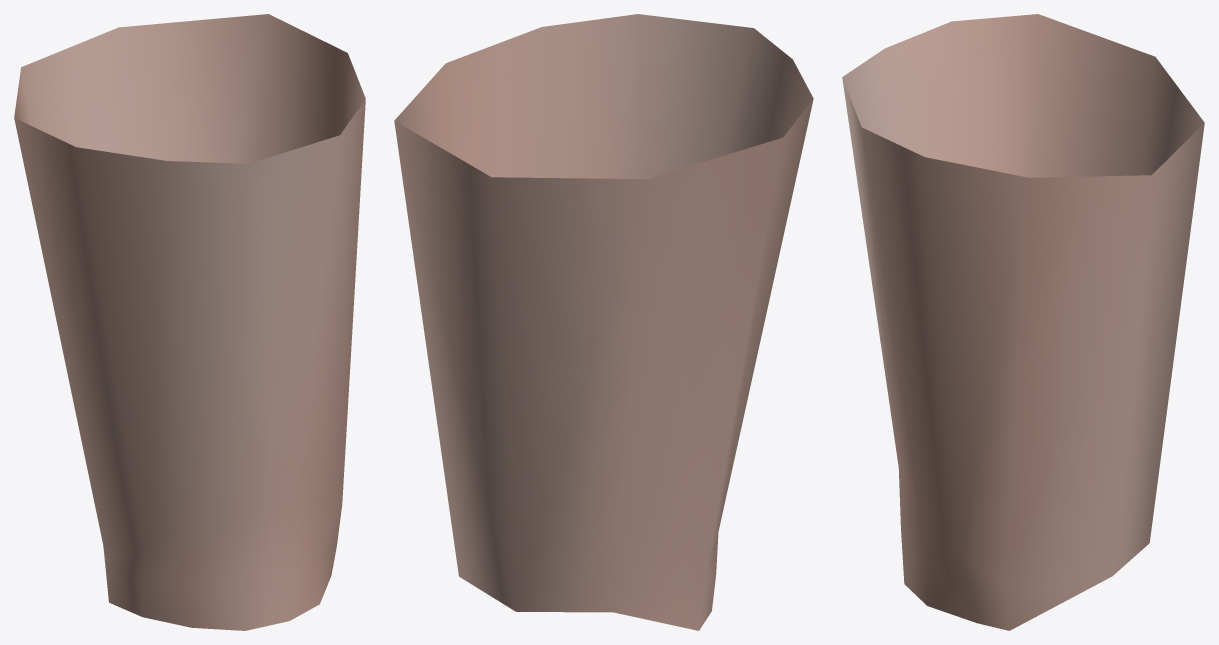
The model's file is KOSHIRO_Pierna_2.obj.
The picture shows the model from 3 angles, left to right: view 1: azimuth 30°, elevation 25°; view 2: azimuth 150°, elevation 25°; view 3: azimuth 270°, elevation 25°; orthographic projection. The views are drawn at different scales.
Parts seen in each view (by area): view 1: Pierna_2_face_Plane.005; view 2: Pierna_2_face_Plane.005; view 3: Pierna_2_face_Plane.005.
Boxes of the visible parts, left/top/right/bottom form: Pierna_2_face_Plane.005: left=14, top=14, right=365, bottom=630; Pierna_2_face_Plane.005: left=394, top=14, right=813, bottom=630; Pierna_2_face_Plane.005: left=842, top=14, right=1204, bottom=630.
Size of the model in its own units: 0.1208 by 0.1767 by 0.1215.
